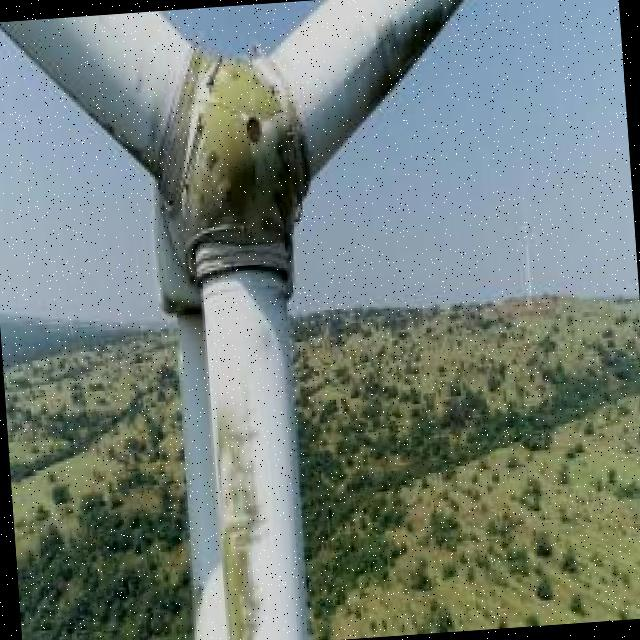Dirt: (212, 321, 283, 640), (345, 0, 471, 110), (101, 66, 167, 176)
